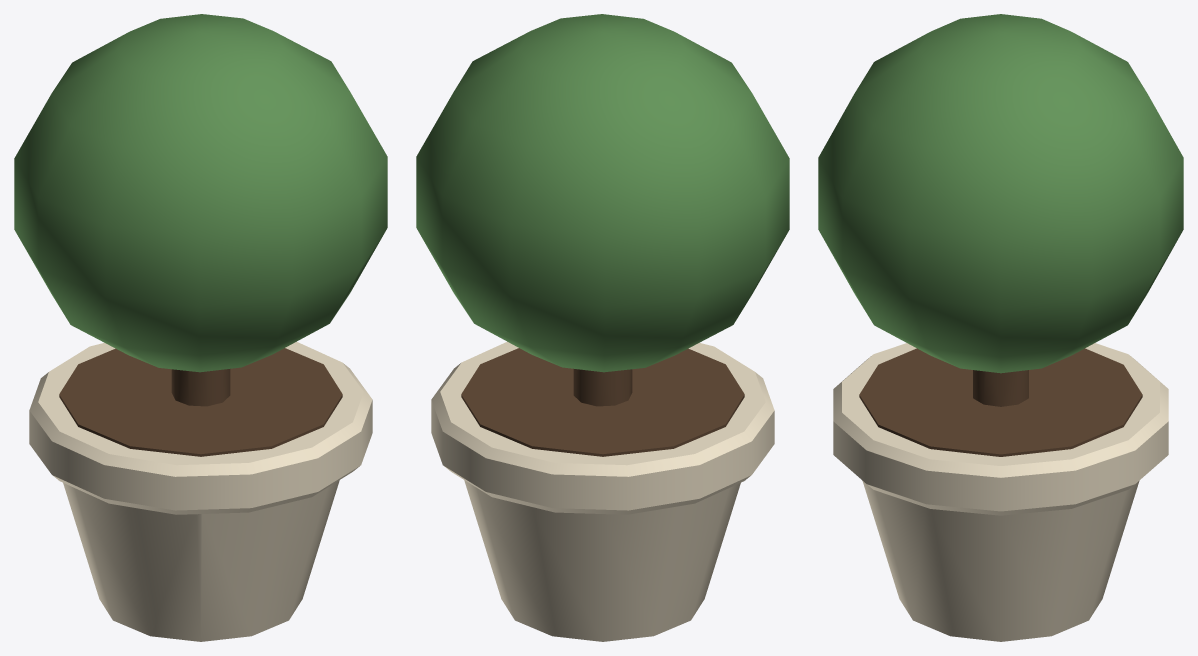
Rendered from potted-topiary-ball.glb.
3 renders of one model, left to right at view 1: azimuth 30°, elevation 25°; view 2: azimuth 150°, elevation 25°; view 3: azimuth 270°, elevation 25°, orthographic.
Visible parts, largest first — view 1: potted-topiary-ball; view 2: potted-topiary-ball; view 3: potted-topiary-ball.
Boxes of the visible parts, <box> form: potted-topiary-ball: <box>14,14,387,641</box>; potted-topiary-ball: <box>416,14,789,641</box>; potted-topiary-ball: <box>818,14,1183,641</box>.
Bounding box in the file's own units: 1.92 × 3.19 × 1.87.
2 materials, 2 textured.
